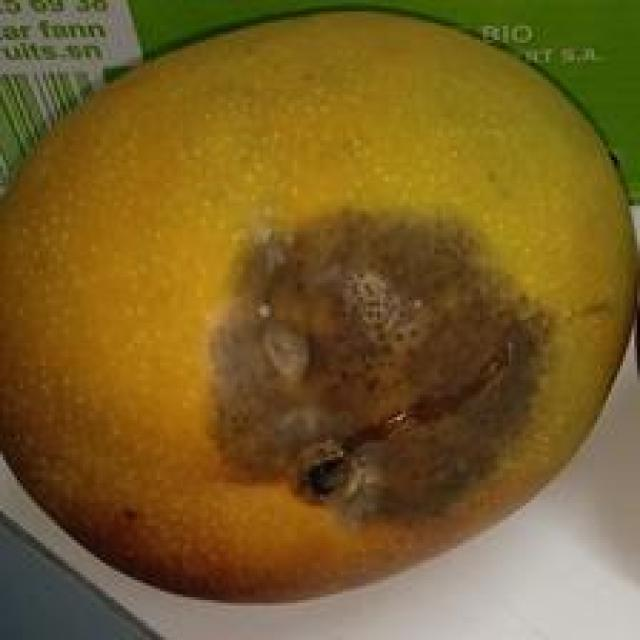Bad_Mango: (0, 15, 634, 599)
